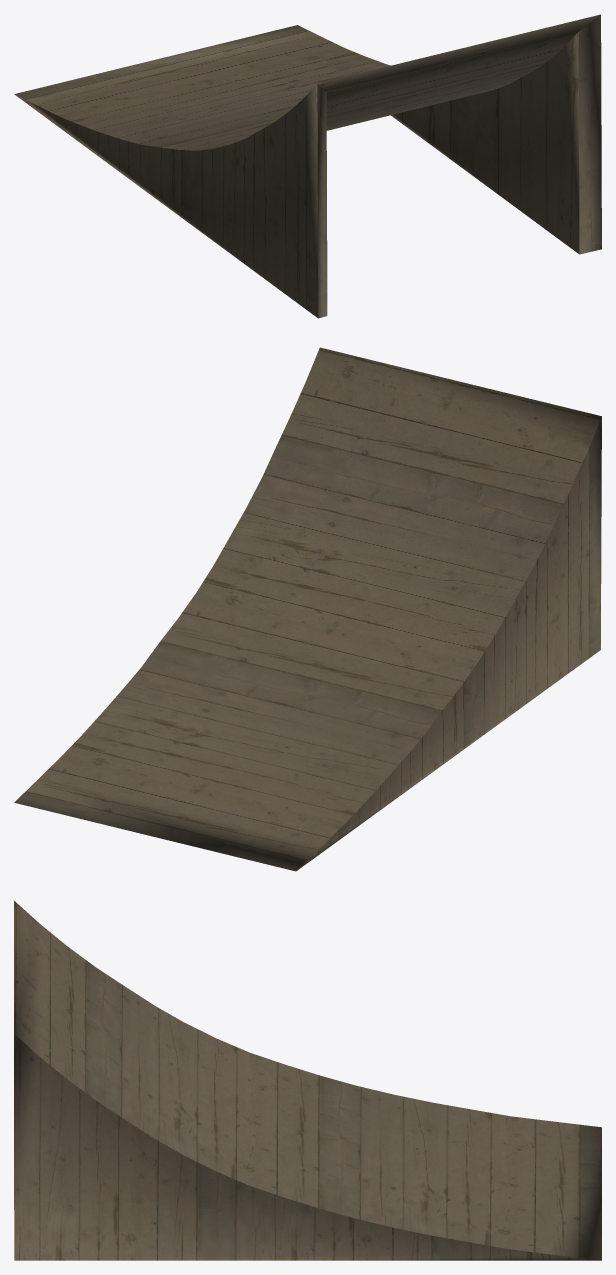
Rendered from SmallRamp.fbx.
3 views of the same model, one above another, from view 1: azimuth 30°, elevation 25°; view 2: azimuth 150°, elevation 25°; view 3: azimuth 270°, elevation 25° (orthographic). The views are drawn at different scales.
Visible parts, largest first — view 1: Skate ramp.001; view 2: Skate ramp.001; view 3: Skate ramp.001.
Boxes of the visible parts, x1=… form: Skate ramp.001: x1=14, y1=14, x2=601, y2=318; Skate ramp.001: x1=14, y1=347, x2=601, y2=871; Skate ramp.001: x1=14, y1=901, x2=601, y2=1260.
Bounding box in the file's own units: 76.36 × 61.63 × 141.
Materials: 1 (1 with a texture image).
